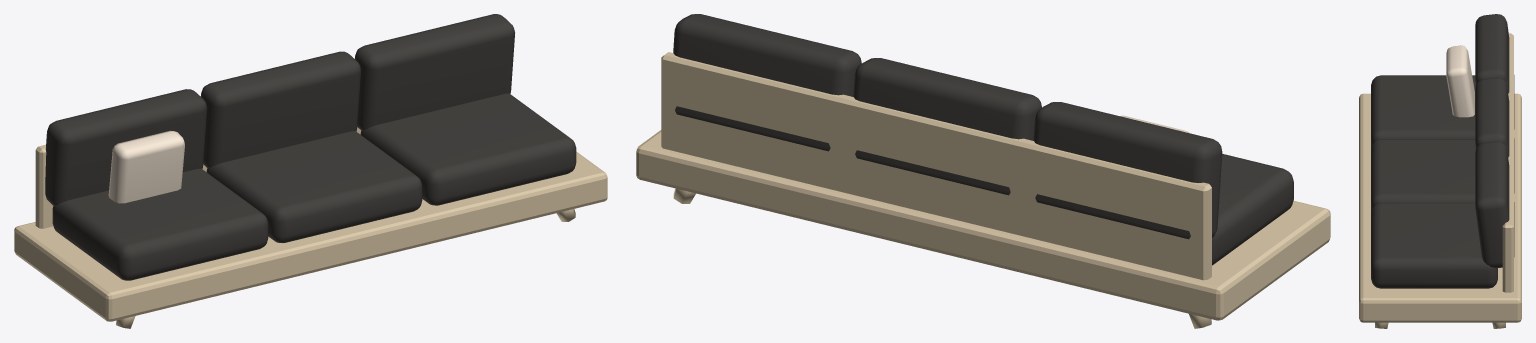
The model's file is lowSofa.glb.
3 renders of one model, left to right at view 1: azimuth 30°, elevation 25°; view 2: azimuth 150°, elevation 25°; view 3: azimuth 270°, elevation 25°, orthographic. The views are drawn at different scales.
Visible parts, largest first — view 1: lowSofa_platform, lowSofa_seat_2, lowSofa_seat_0, lowSofa_seat_1, lowSofa_back_1, lowSofa_back_2, lowSofa_back_0, lowSofa_throw, lowSofa_back_rail; view 2: lowSofa_back_rail, lowSofa_platform, lowSofa_back_0, lowSofa_back_2, lowSofa_back_1, lowSofa_seat_0; view 3: lowSofa_platform, lowSofa_seat_2, lowSofa_seat_1, lowSofa_seat_0, lowSofa_back_2, lowSofa_back_0, lowSofa_back_1, lowSofa_back_rail, lowSofa_throw.
Part boxes in pixels (bbox=[...]): lowSofa_platform: bbox=[14, 151, 607, 321]; lowSofa_seat_2: bbox=[360, 93, 576, 205]; lowSofa_seat_0: bbox=[52, 168, 268, 280]; lowSofa_seat_1: bbox=[206, 131, 422, 242]; lowSofa_back_1: bbox=[201, 51, 361, 168]; lowSofa_back_2: bbox=[354, 14, 514, 130]; lowSofa_back_0: bbox=[45, 89, 207, 205]; lowSofa_throw: bbox=[108, 130, 184, 203]; lowSofa_back_rail: bbox=[35, 127, 361, 228]; lowSofa_back_rail: bbox=[661, 52, 1211, 280]; lowSofa_platform: bbox=[636, 130, 1330, 320]; lowSofa_back_0: bbox=[1033, 102, 1222, 239]; lowSofa_back_2: bbox=[673, 14, 861, 151]; lowSofa_back_1: bbox=[853, 58, 1041, 195]; lowSofa_seat_0: bbox=[1212, 154, 1293, 265]; lowSofa_platform: bbox=[1359, 93, 1521, 322]; lowSofa_seat_2: bbox=[1371, 203, 1497, 288]; lowSofa_seat_1: bbox=[1371, 139, 1475, 211]; lowSofa_seat_0: bbox=[1371, 75, 1475, 148]; lowSofa_back_2: bbox=[1475, 141, 1514, 268]; lowSofa_back_0: bbox=[1475, 14, 1514, 129]; lowSofa_back_1: bbox=[1475, 77, 1514, 193]; lowSofa_back_rail: bbox=[1502, 33, 1513, 292]; lowSofa_throw: bbox=[1446, 45, 1474, 117].
Bounding box in the file's own units: 2.9 × 0.863 × 0.96.
